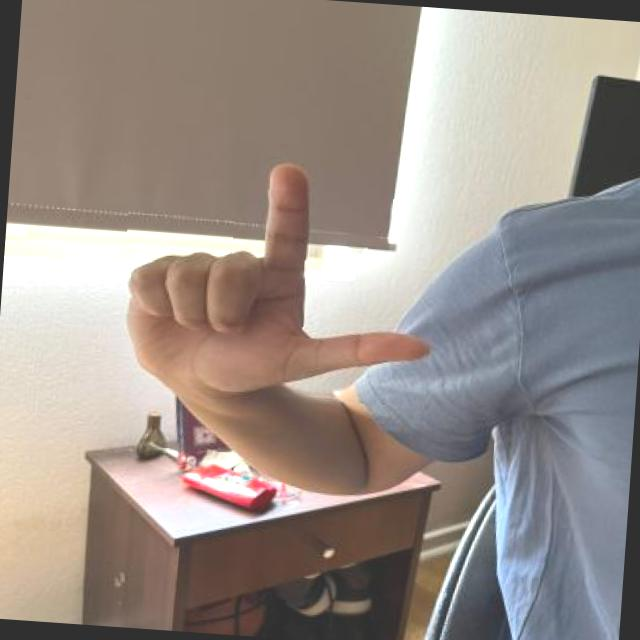L: (116, 146, 442, 408)
